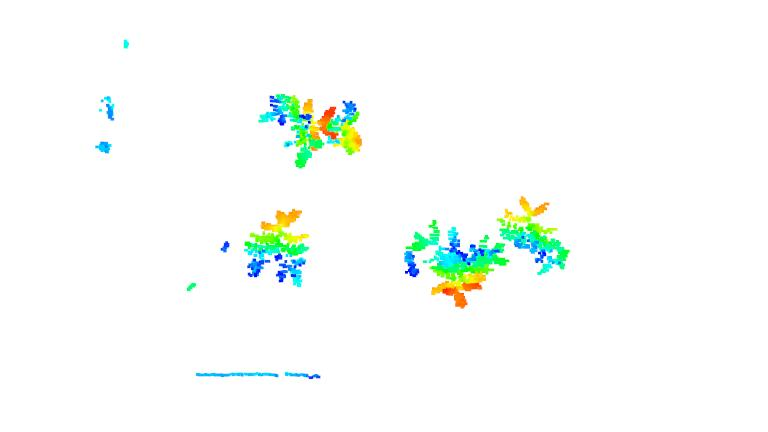chickpea: (409, 221, 509, 312), (261, 93, 370, 168), (497, 193, 569, 276), (242, 206, 308, 290)
